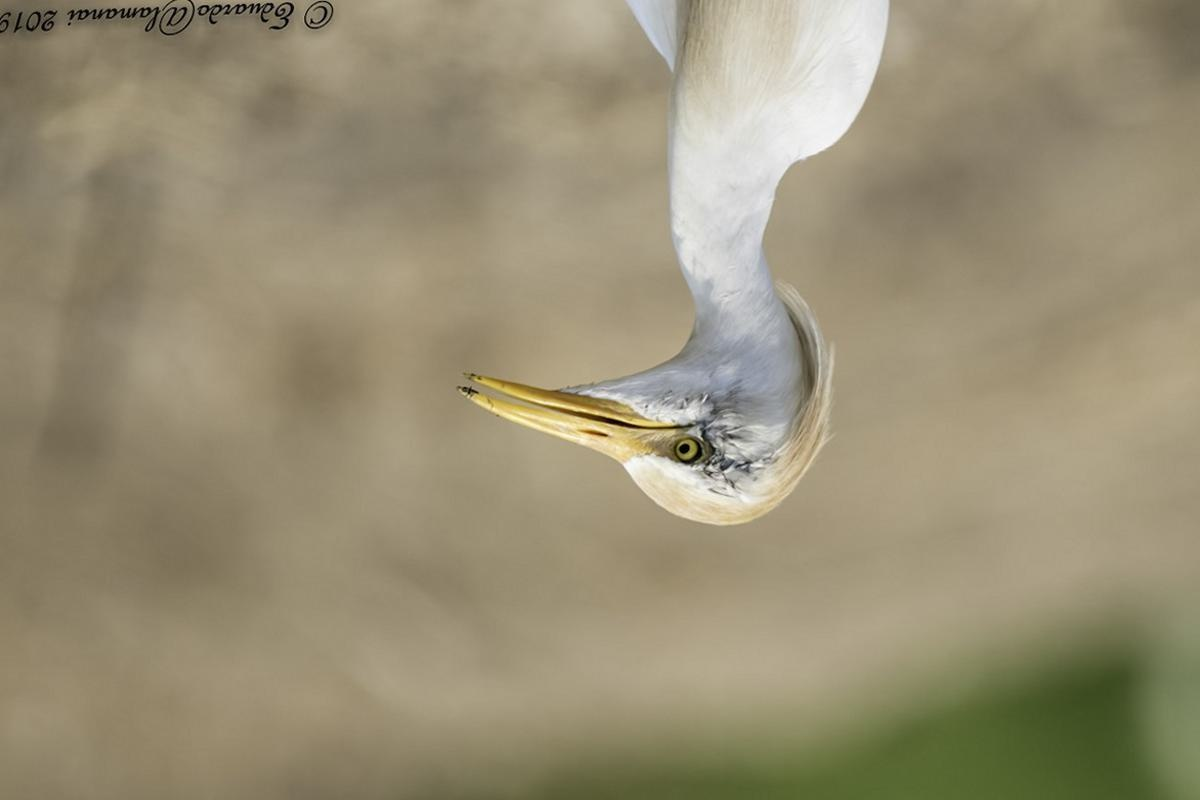egret: (451, 1, 945, 527)
